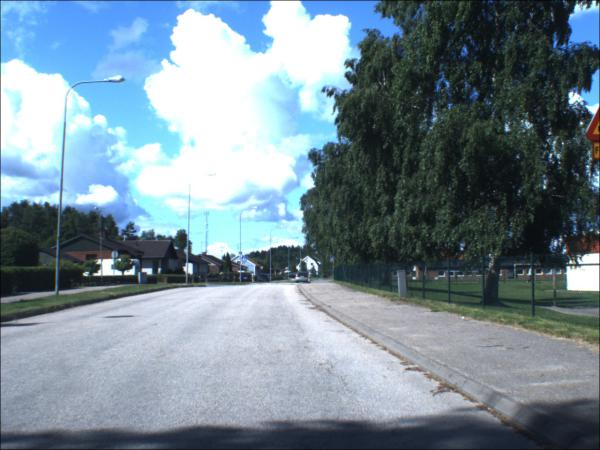PEDESTRIAN_CROSSING: (332, 257, 338, 263)
